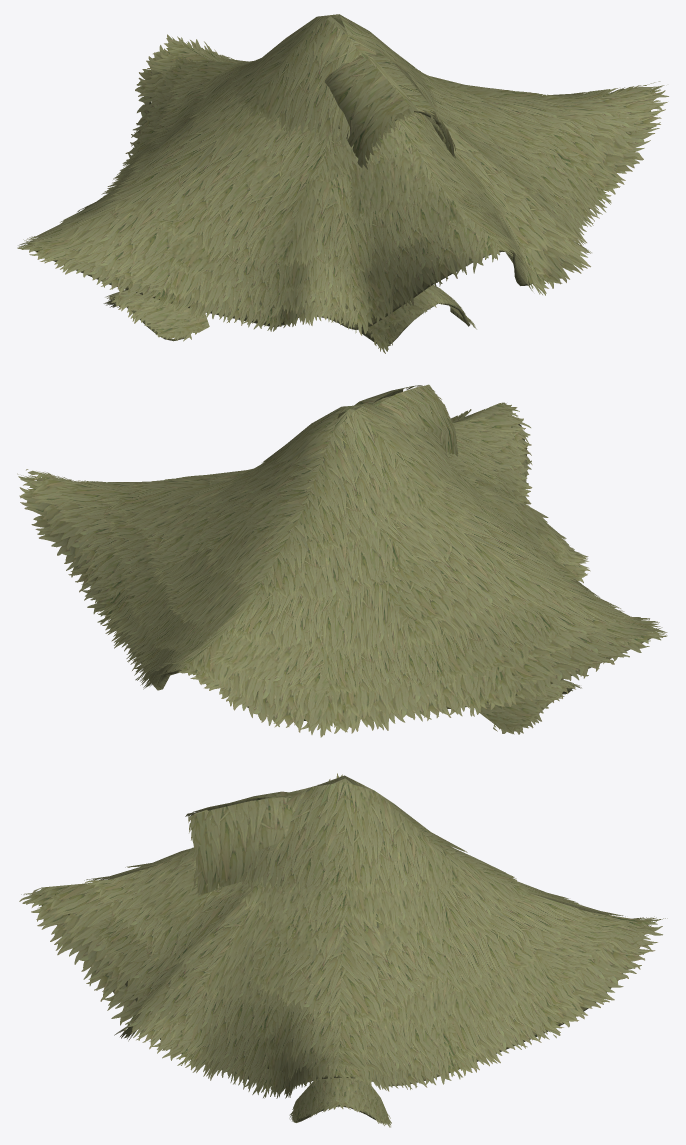
Rendered from Homeworld_Exterior_Xm_Build_Mainhouse_01_C_Lod0.fbx.
3 renders of one model, top to bottom at view 1: azimuth 30°, elevation 25°; view 2: azimuth 150°, elevation 25°; view 3: azimuth 270°, elevation 25°, orthographic. The views are drawn at different scales.
Visible parts, largest first — view 1: Homeworld_Exterior_Xm_Build_Mainhouse_01_C_Lod0; view 2: Homeworld_Exterior_Xm_Build_Mainhouse_01_C_Lod0; view 3: Homeworld_Exterior_Xm_Build_Mainhouse_01_C_Lod0.
Part boxes in pixels (left/top/right/bottom): Homeworld_Exterior_Xm_Build_Mainhouse_01_C_Lod0: left=17, top=14, right=668, bottom=353; Homeworld_Exterior_Xm_Build_Mainhouse_01_C_Lod0: left=17, top=384, right=667, bottom=737; Homeworld_Exterior_Xm_Build_Mainhouse_01_C_Lod0: left=19, top=773, right=667, bottom=1127.
Size of the model in its own units: 32.78 by 12.76 by 29.5.
